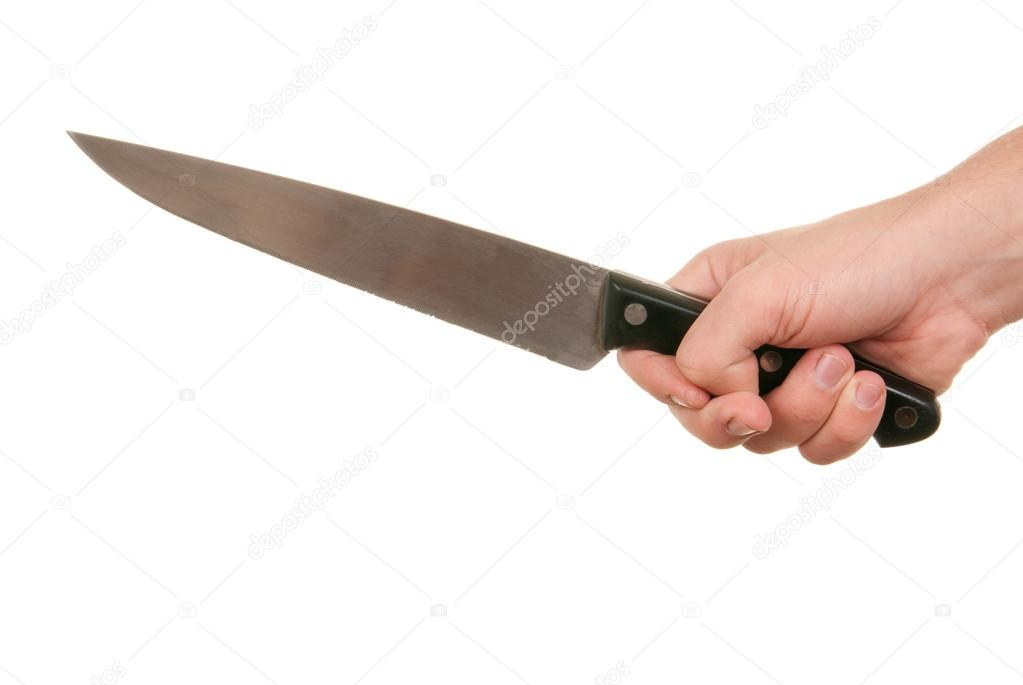knife: (52, 110, 859, 460)
